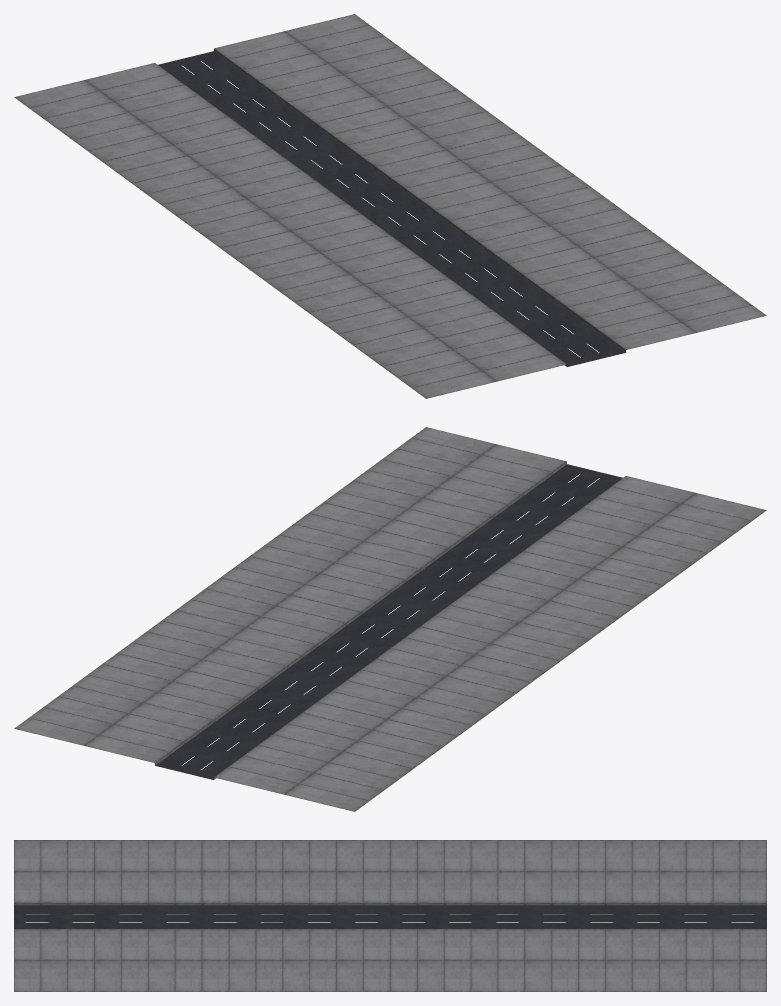
Rendered from road.obj.
The picture shows the model from 3 angles, top to bottom: view 1: azimuth 30°, elevation 25°; view 2: azimuth 150°, elevation 25°; view 3: azimuth 270°, elevation 25°; orthographic projection. The views are drawn at different scales.
Parts seen in each view (by area): view 1: Plane; view 2: Plane; view 3: Plane.
Boxes of the visible parts, box(x1,y1,x2,y2) form: Plane: box(14, 14, 766, 398); Plane: box(14, 427, 766, 811); Plane: box(14, 840, 766, 991).
Bounding box in the file's own units: 19.1 × 0.1425 × 40.
1 material, 1 textured.
